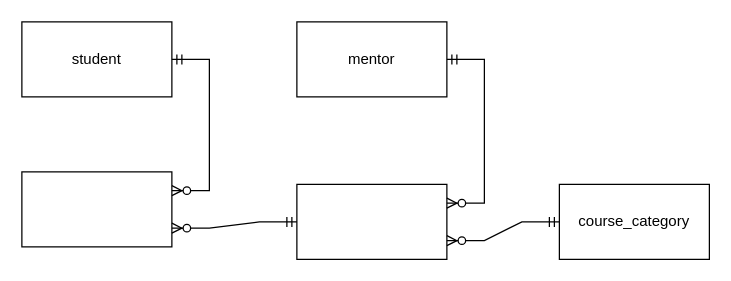
This 731x281 diagram has some shape labels left out. The box of each missing label's shape, as (x1, y1, x2, y2) in pixels:
course: (296, 183, 447, 259)
enroll: (21, 171, 172, 247)
